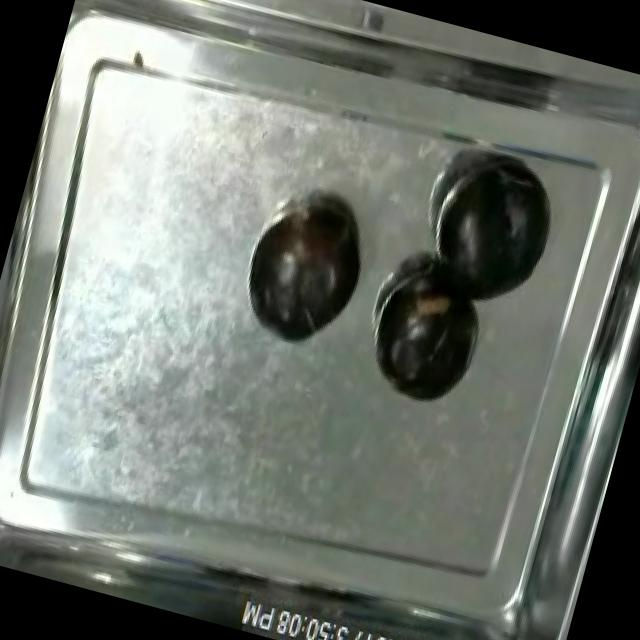Fruit: (417, 148, 569, 328), (230, 186, 382, 360), (366, 269, 492, 414)
